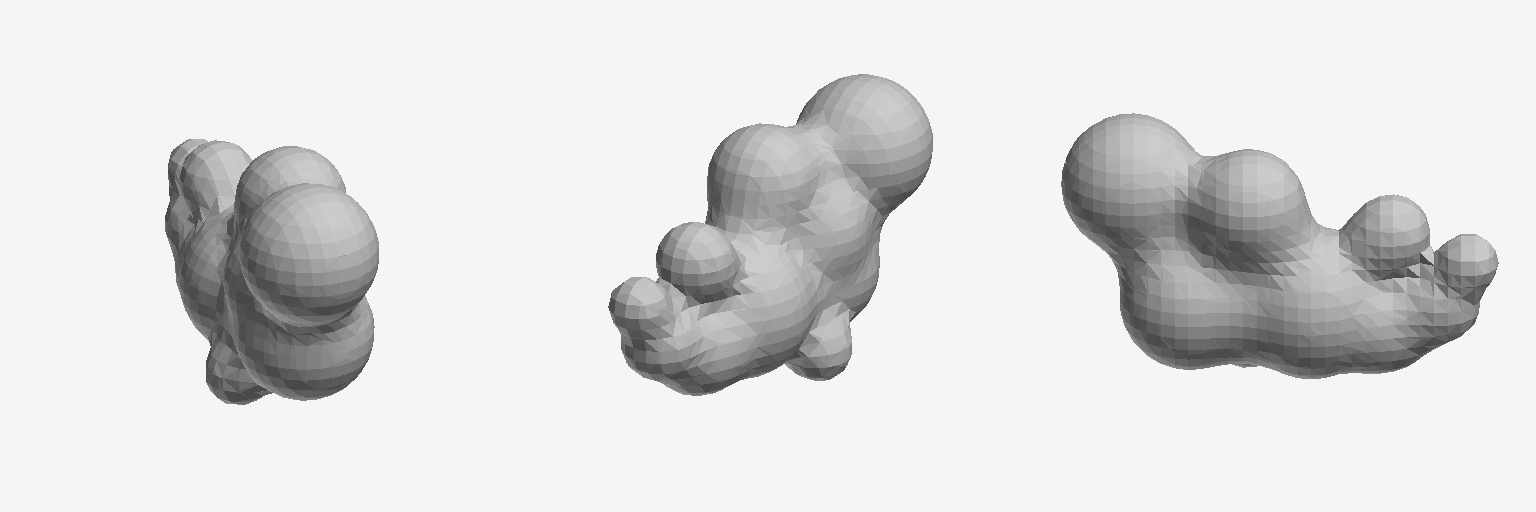
The picture shows the model from 3 angles: view 1: azimuth 30°, elevation 25°; view 2: azimuth 150°, elevation 25°; view 3: azimuth 270°, elevation 25°; orthographic projection.
Parts seen in each view (by area): view 1: Mball.011; view 2: Mball.011; view 3: Mball.011.
Boxes of the visible parts, x1=… form: Mball.011: x1=165, y1=139, x2=378, y2=404; Mball.011: x1=608, y1=74, x2=932, y2=395; Mball.011: x1=1061, y1=113, x2=1498, y2=378.
Size of the model in its own units: 3.21 by 4.73 by 7.46.